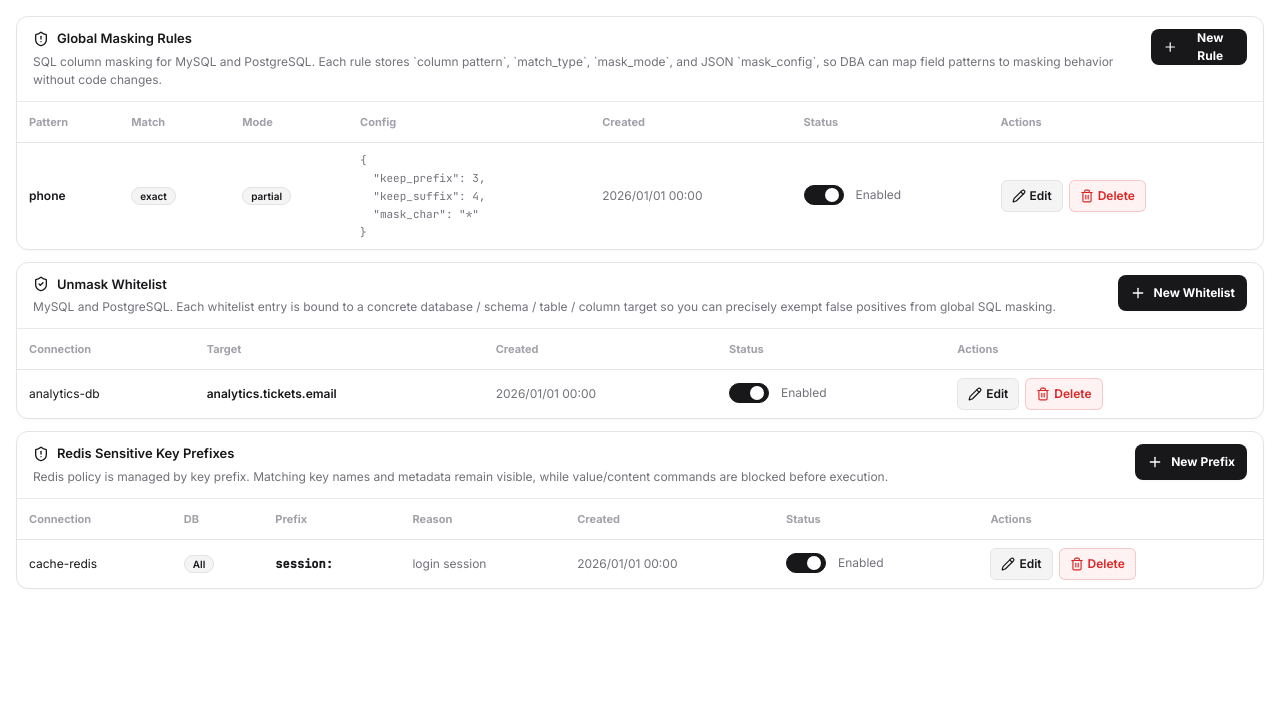
Test: MaskingRulesPage › toggles a global masking rule enabled state
This screenshot has width=1280, height=720.
Click the switch named "phone enabled": (824, 194) [804, 184, 844, 204]
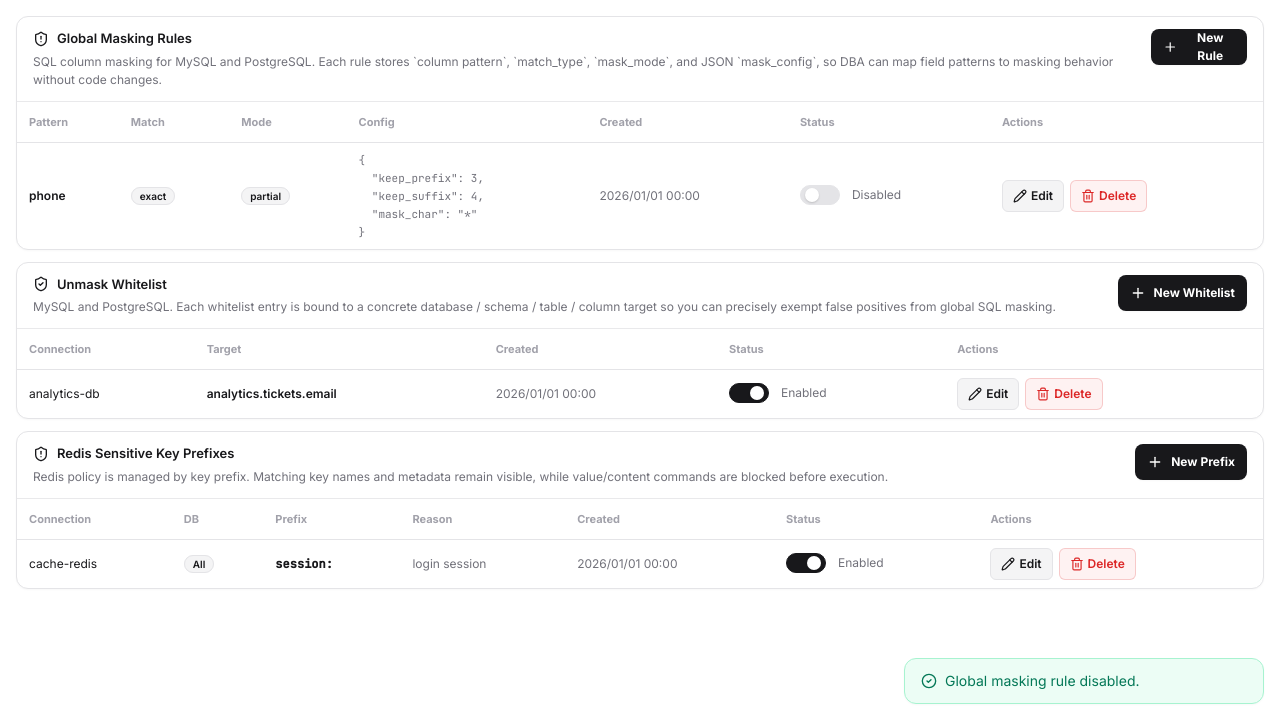
Expected: the text "Disabled" is shown, [852, 186, 901, 204]
